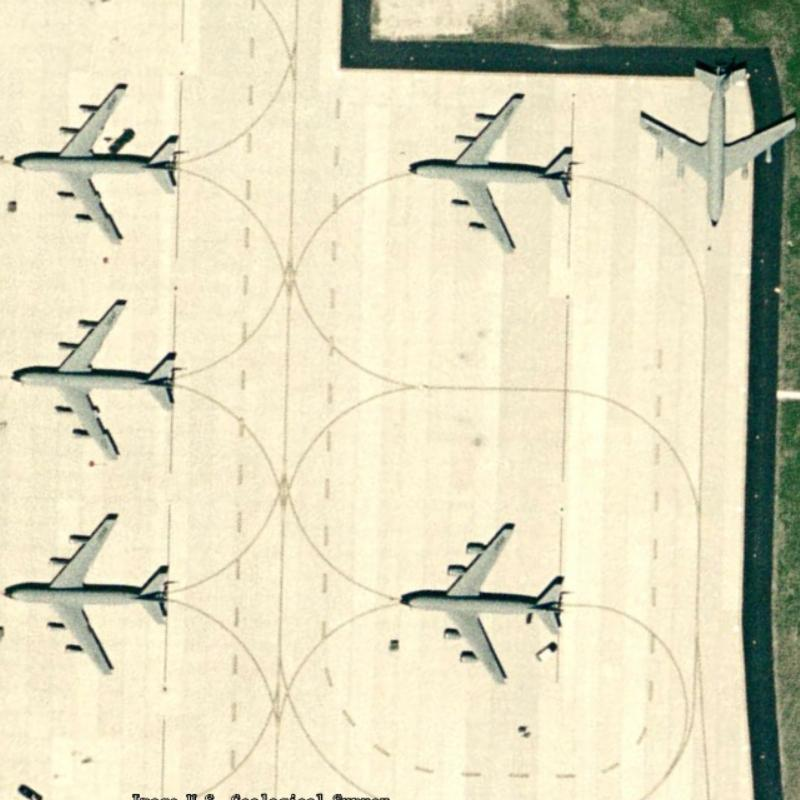A14: (399, 86, 581, 264), (2, 504, 173, 680), (14, 77, 183, 249), (12, 290, 180, 460), (635, 60, 799, 234), (396, 516, 566, 682)
